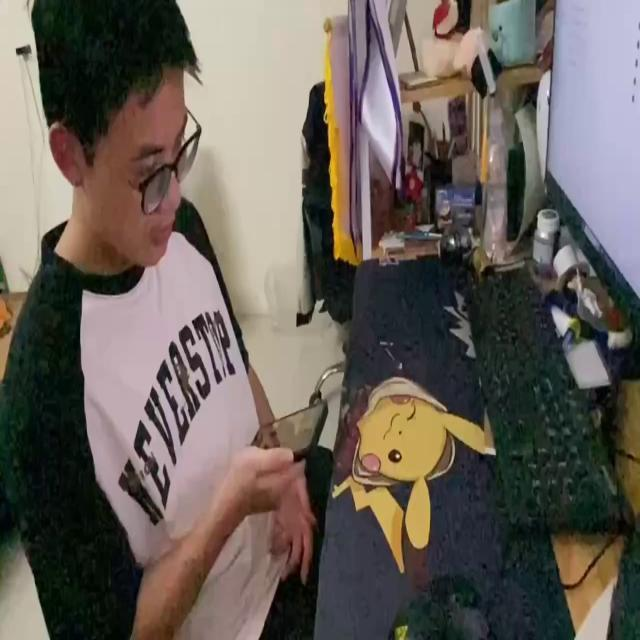laptop: (541, 0, 640, 342)
phone: (246, 397, 327, 458)
student: (4, 0, 318, 640)
